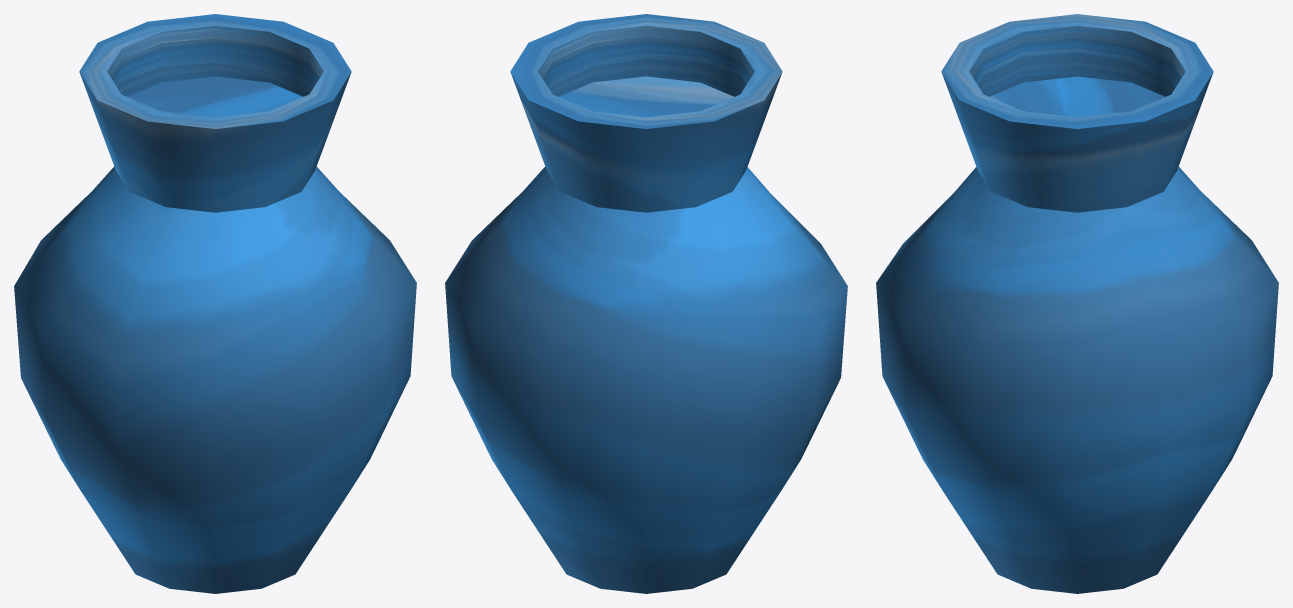
The model's file is vase2.fbx.
3 renders of one model, left to right at view 1: azimuth 30°, elevation 25°; view 2: azimuth 150°, elevation 25°; view 3: azimuth 270°, elevation 25°, orthographic.
Parts seen in each view (by area): view 1: pCylinder3; view 2: pCylinder3; view 3: pCylinder3.
Part boxes in pixels (x1,y1,x2,y2): pCylinder3: [14, 14, 416, 593]; pCylinder3: [445, 14, 847, 593]; pCylinder3: [876, 14, 1278, 593].
Size of the model in its own units: 0.5168 by 0.6842 by 0.5168.
1 material, 1 textured.
